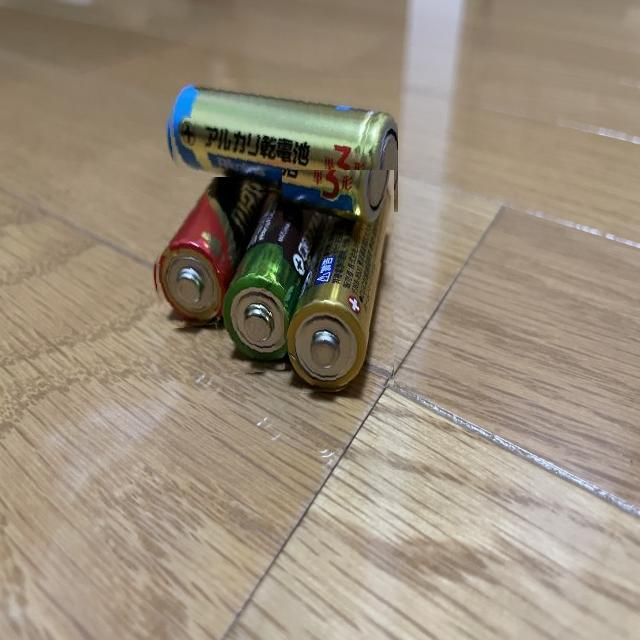battery: (164, 78, 398, 234), (282, 170, 394, 395), (208, 190, 336, 376), (151, 177, 278, 330)
